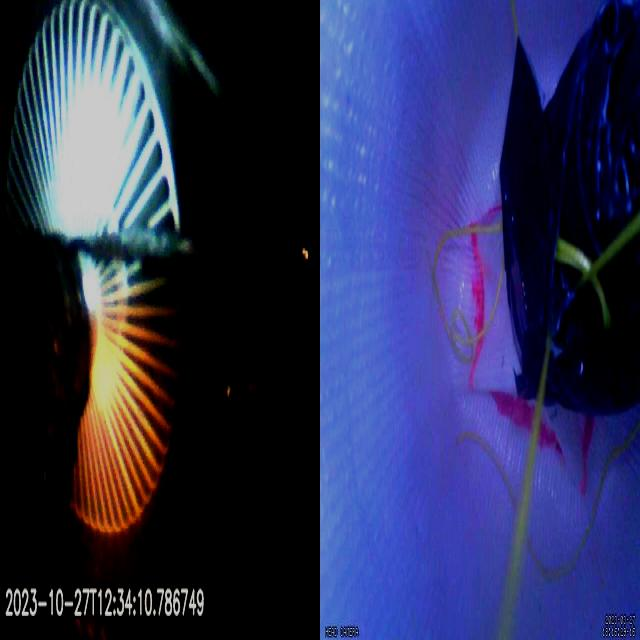red-circle: (470, 224, 596, 466)
